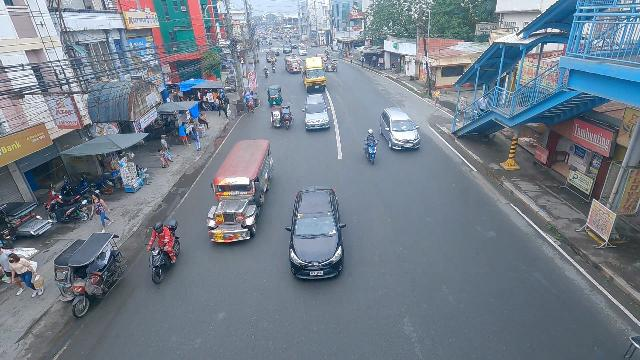car: (285, 184, 342, 283), (378, 106, 421, 152), (301, 94, 331, 132), (298, 46, 307, 56), (282, 45, 292, 54)
jeepney: (205, 138, 273, 246), (284, 56, 301, 74), (265, 49, 278, 62)
motorcycle: (144, 219, 181, 285), (362, 128, 379, 169), (271, 62, 277, 73), (263, 66, 269, 77)
truck: (301, 57, 328, 93)
